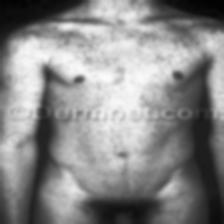Toxin: (76, 34, 108, 61), (104, 126, 139, 146)
